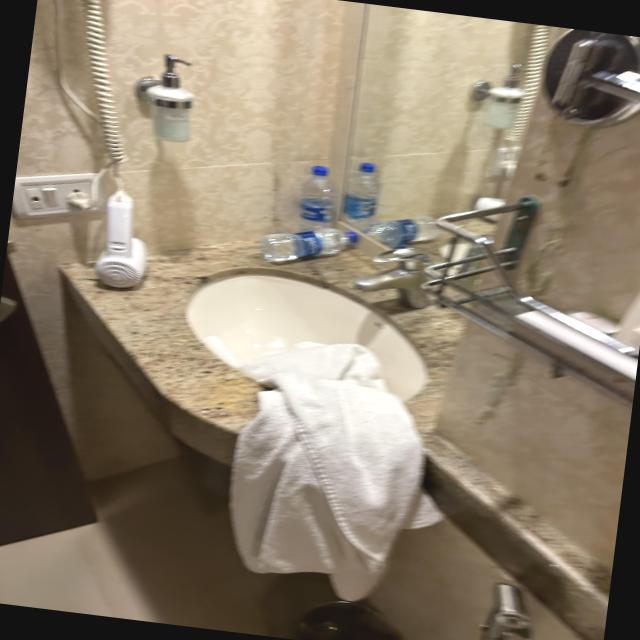mess: (31, 152, 640, 551)
